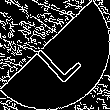L_NW: (27, 26, 83, 84)
